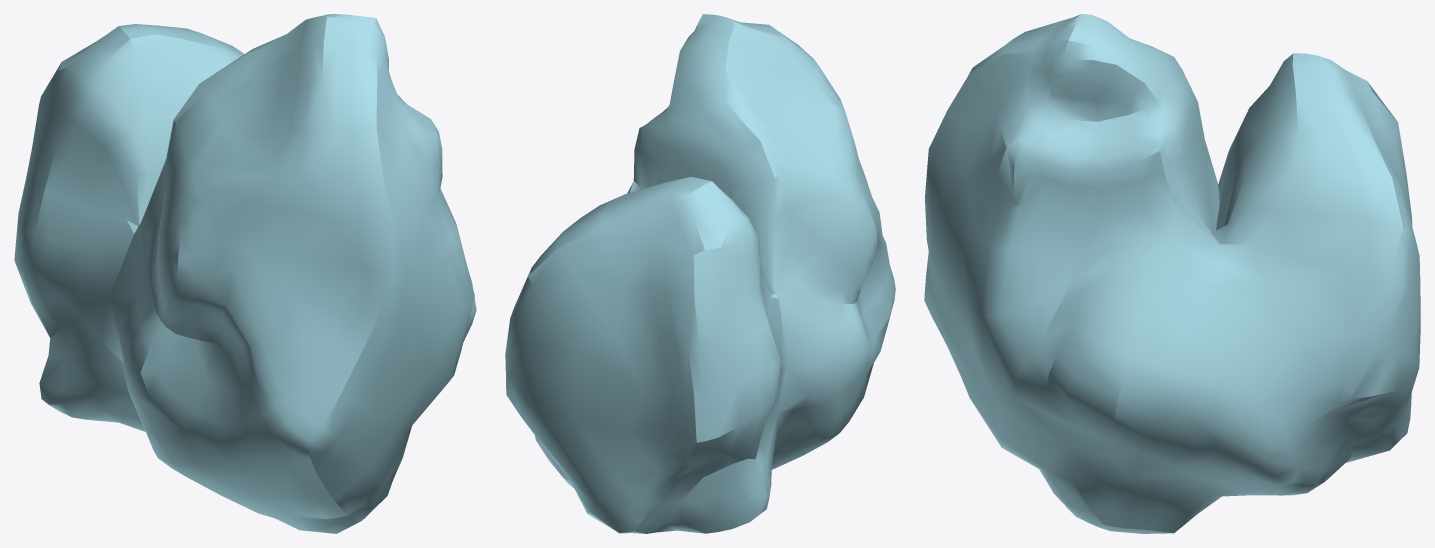
The model's file is SmallRock3.fbx.
3 views of the same model, side by side, from view 1: azimuth 30°, elevation 25°; view 2: azimuth 150°, elevation 25°; view 3: azimuth 270°, elevation 25° (orthographic). The views are drawn at different scales.
Visible parts, largest first — view 1: Retopo_Cube.005; view 2: Retopo_Cube.005; view 3: Retopo_Cube.005.
Part boxes in pixels (x1=…): Retopo_Cube.005: x1=14, y1=14, x2=476, y2=533; Retopo_Cube.005: x1=505, y1=14, x2=895, y2=533; Retopo_Cube.005: x1=924, y1=14, x2=1420, y2=533.
Bounding box in the file's own units: 70.69 × 106 × 93.27.
